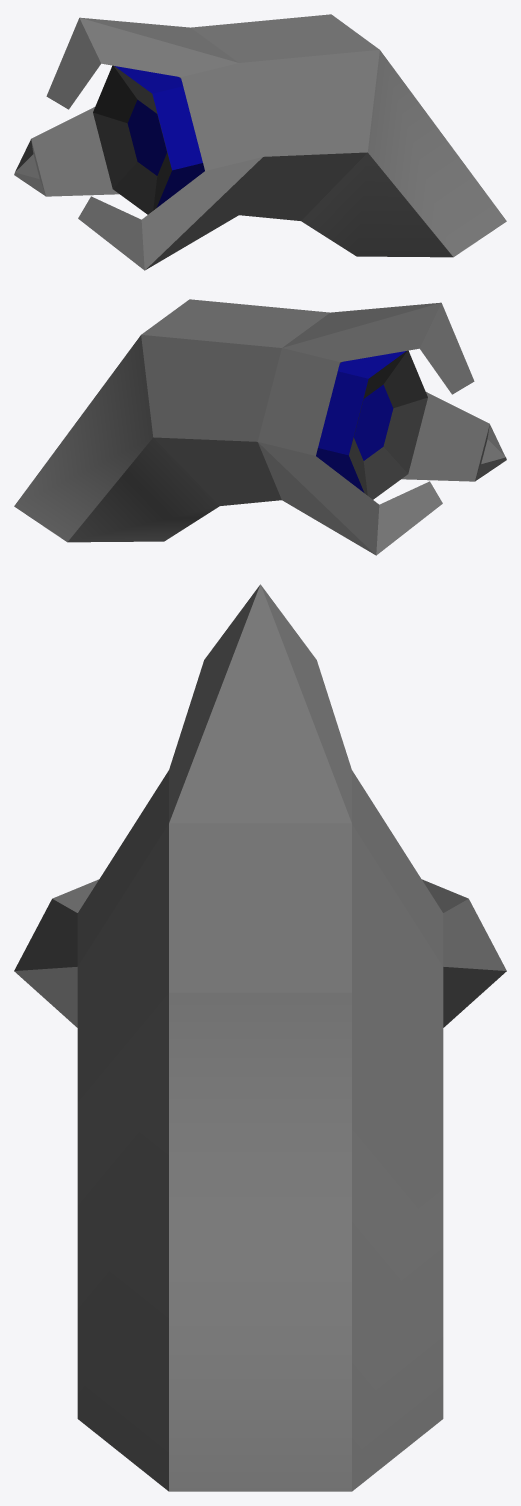
Rendered from WeaponLaserBeamUp.FBX.
The picture shows the model from 3 angles, top to bottom: view 1: azimuth 30°, elevation 25°; view 2: azimuth 150°, elevation 25°; view 3: azimuth 270°, elevation 25°; orthographic projection. The views are drawn at different scales.
Visible parts, largest first — view 1: Cylinder007; view 2: Cylinder007; view 3: Cylinder007.
Boxes of the visible parts, left/top/right/bottom form: Cylinder007: left=14, top=14, right=506, bottom=270; Cylinder007: left=14, top=299, right=506, bottom=555; Cylinder007: left=14, top=584, right=506, bottom=1491.
Bounding box in the file's own units: 59.07 × 36.8 × 30.65.
1 material, 1 textured.
